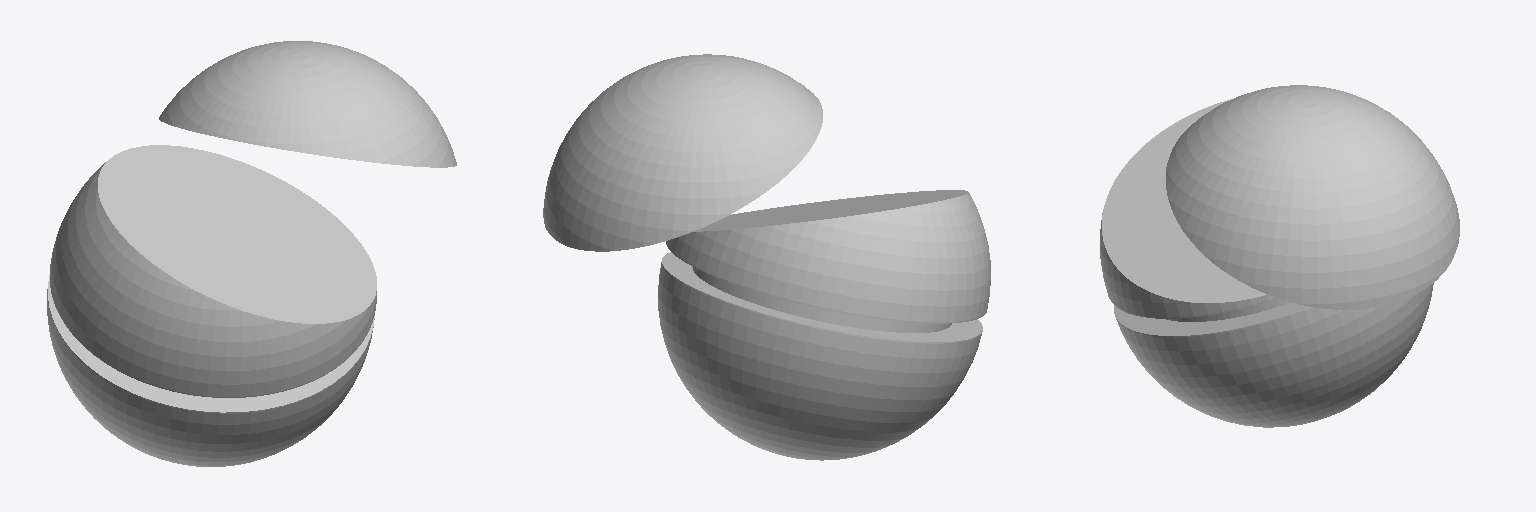
The model's file is Drone166_000007.obj.
3 views of the same model, side by side, from view 1: azimuth 30°, elevation 25°; view 2: azimuth 150°, elevation 25°; view 3: azimuth 270°, elevation 25° (orthographic).
Parts seen in each view (by area): view 1: Sphere.006, Sphere.000_Sphere.007; view 2: Sphere.006, Sphere.000_Sphere.007; view 3: Sphere.000_Sphere.007, Sphere.006.
Boxes of the visible parts, <box> form: Sphere.006: <box>47,145,376,466</box>; Sphere.000_Sphere.007: <box>159,41,456,167</box>; Sphere.006: <box>658,190,990,460</box>; Sphere.000_Sphere.007: <box>543,54,822,251</box>; Sphere.000_Sphere.007: <box>1166,85,1459,309</box>; Sphere.006: <box>1100,99,1433,427</box>.
Size of the model in its own units: 2.71 by 2.42 by 2.19.